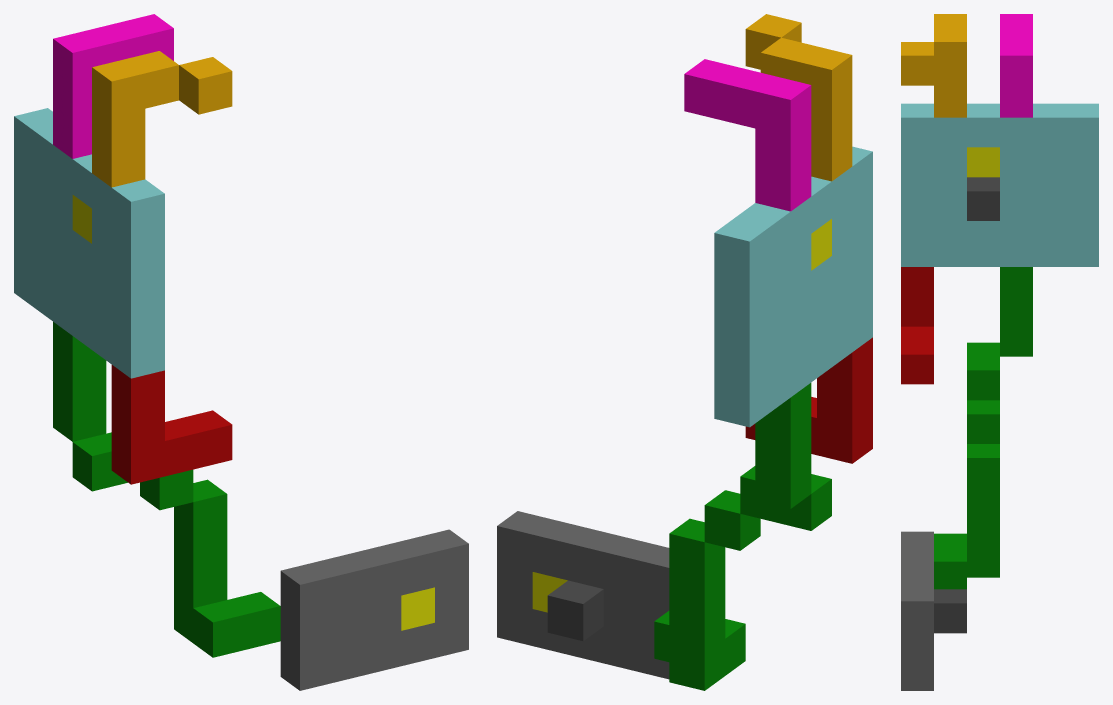
File: specs_1core2gb.glb
3 views of the same model, side by side, from view 1: azimuth 30°, elevation 25°; view 2: azimuth 150°, elevation 25°; view 3: azimuth 270°, elevation 25° (orthographic). The views are drawn at different scales.
Visible parts, largest first — view 1: model_0.001; view 2: model_0.001; view 3: model_0.001.
Part boxes in pixels (<box>): model_0.001: <box>14,14,468,690</box>; model_0.001: <box>497,14,872,690</box>; model_0.001: <box>901,14,1098,690</box>.
Bounding box in the file's own units: 10 × 18 × 6.
